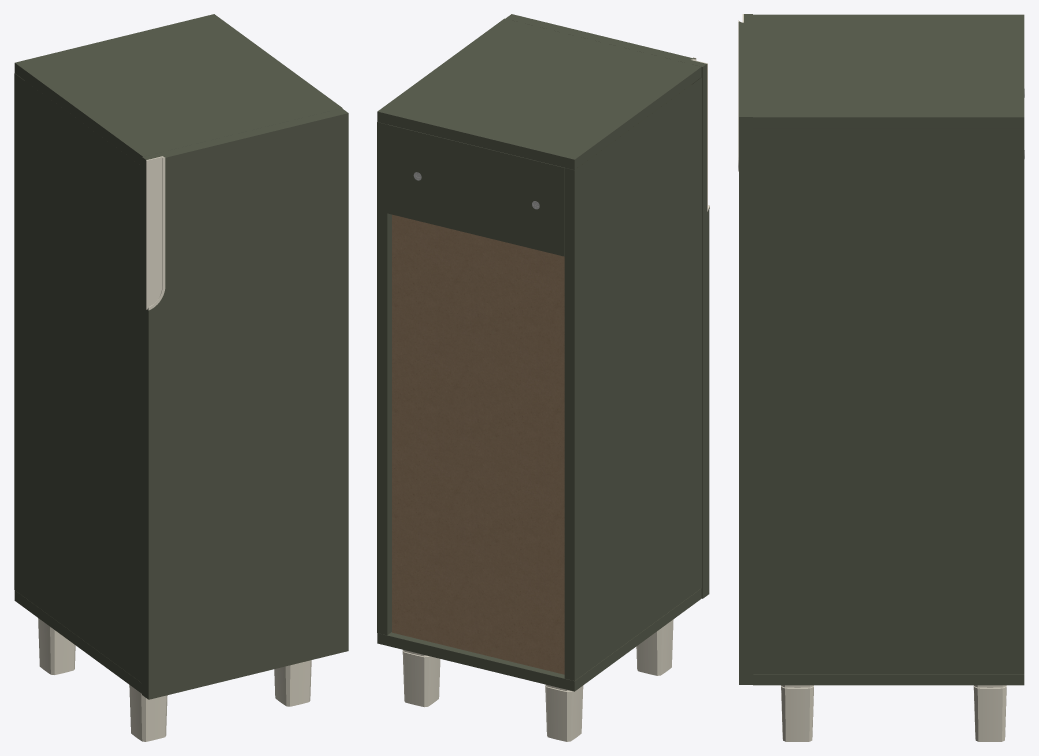
3 views of the same model, side by side, from view 1: azimuth 30°, elevation 25°; view 2: azimuth 150°, elevation 25°; view 3: azimuth 270°, elevation 25° (orthographic). The views are drawn at different scales.
Parts seen in each view (by area): view 1: group_0.268, Cube.001, Cube.002, group_0.389, group_0.326, group_0.329, group_0.327, Cube.005; view 2: Cube.001, group_0.369, Cube.002, group_0.268, Cube.005, group_0.329, group_0.328, group_0.326; view 3: Cube.001, Cube.002, group_0.268, Cube.005, group_0.328, group_0.327.
Boxes of the visible parts, x1,y1,x2,y2 form: group_0.268: [142, 108, 348, 699]; Cube.001: [14, 73, 141, 682]; Cube.002: [14, 14, 342, 165]; group_0.389: [146, 156, 165, 310]; group_0.326: [129, 685, 167, 741]; group_0.329: [38, 618, 75, 674]; group_0.327: [274, 660, 311, 706]; Cube.005: [14, 590, 141, 693]; Cube.001: [377, 77, 701, 680]; group_0.369: [392, 214, 564, 674]; Cube.002: [377, 18, 701, 169]; group_0.268: [505, 14, 709, 598]; Cube.005: [377, 588, 701, 691]; group_0.329: [545, 684, 583, 741]; group_0.328: [402, 650, 440, 707]; group_0.326: [636, 619, 673, 675]; Cube.001: [753, 128, 1024, 673]; Cube.002: [753, 14, 1024, 128]; group_0.268: [739, 14, 752, 684]; Cube.005: [753, 674, 1024, 685]; group_0.328: [973, 685, 1006, 741]; group_0.327: [781, 685, 813, 741].
Bounding box in the file's own units: 0.352 × 1 × 0.4113.
Materials: 11 (1 with a texture image).
